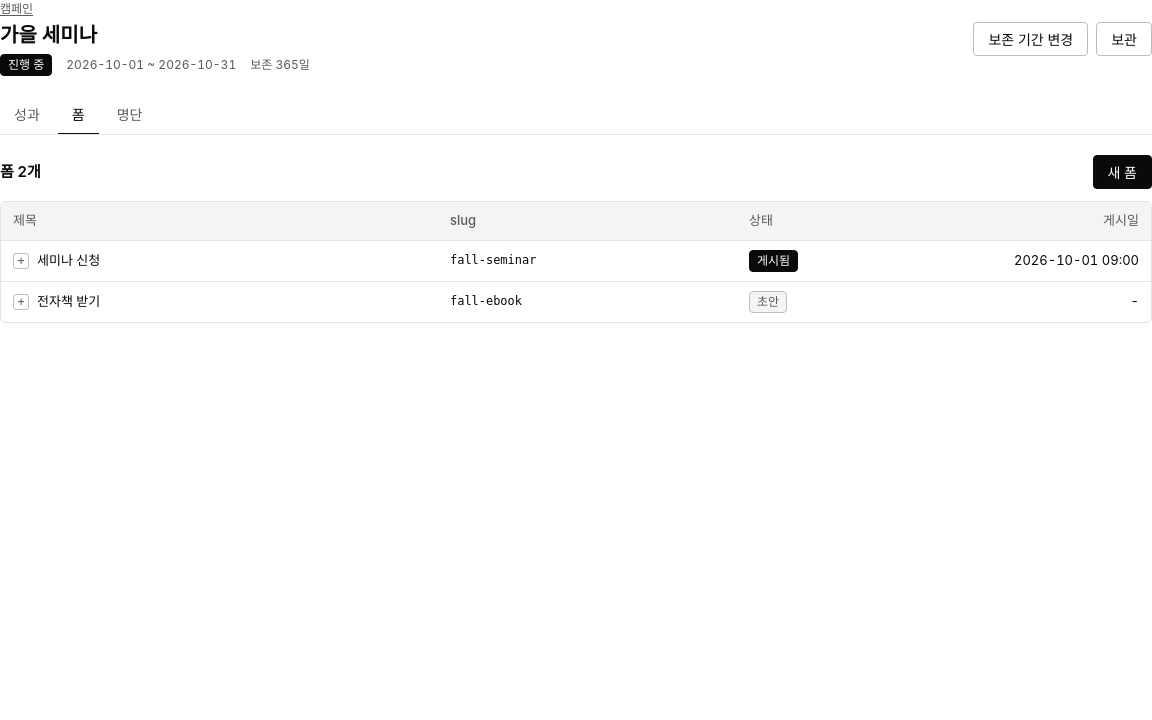
캠페인 보존 기간 › 범위를 벗어나면 서버 오류를 그 칸에 보여주고 대화상자를 닫지 않는다
Click the button "보존 기간 변경": point(1031, 39) x1=974 y1=22 x2=1088 y2=56
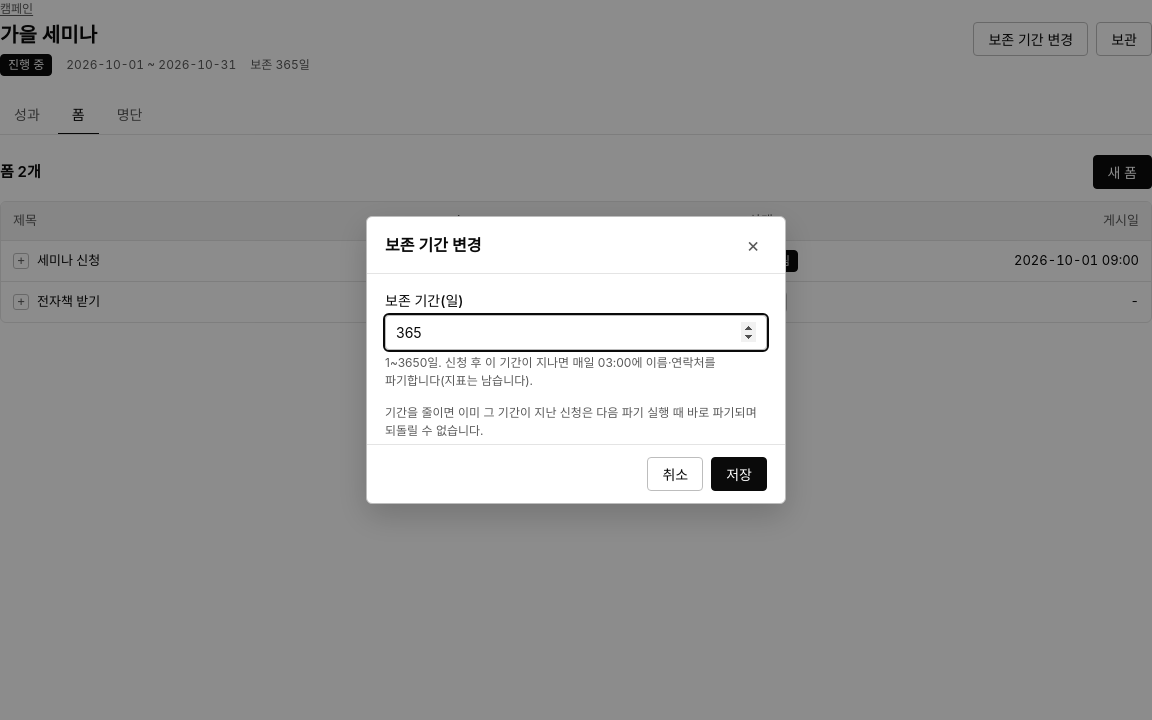
Replace the text in the number field labelled "보존 기간(일)" with "0": point(576, 332) x1=385 y1=315 x2=767 y2=350
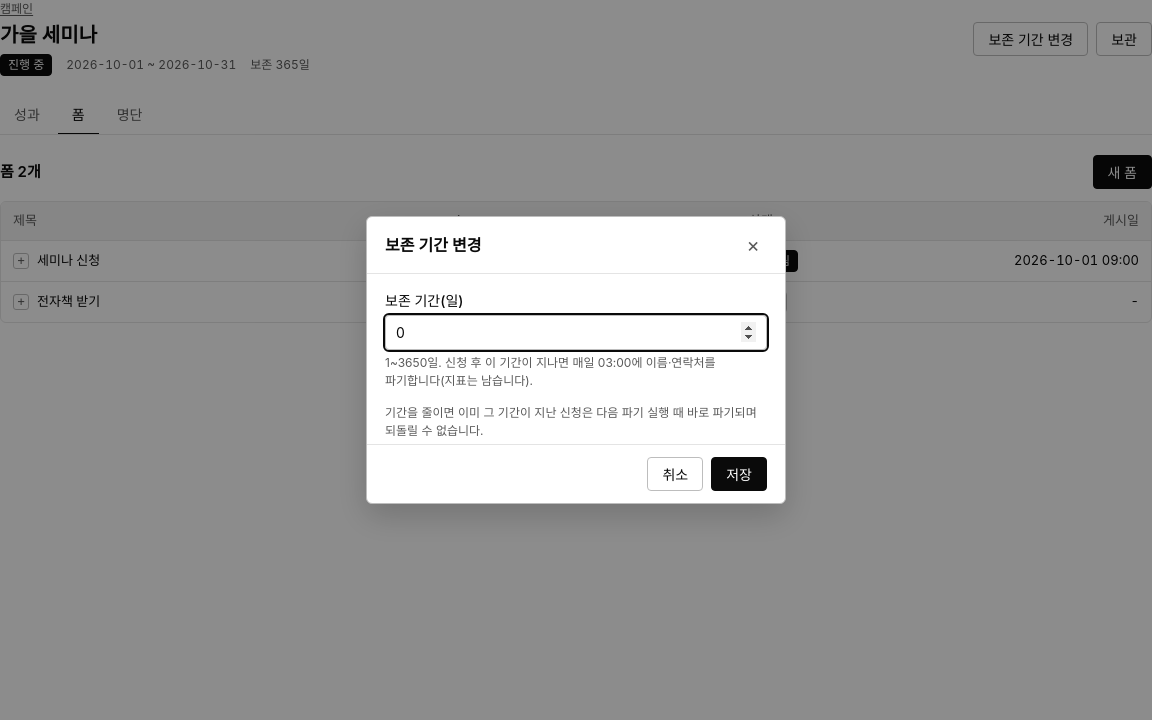
Click the button "저장": point(739, 474) x1=711 y1=457 x2=767 y2=491
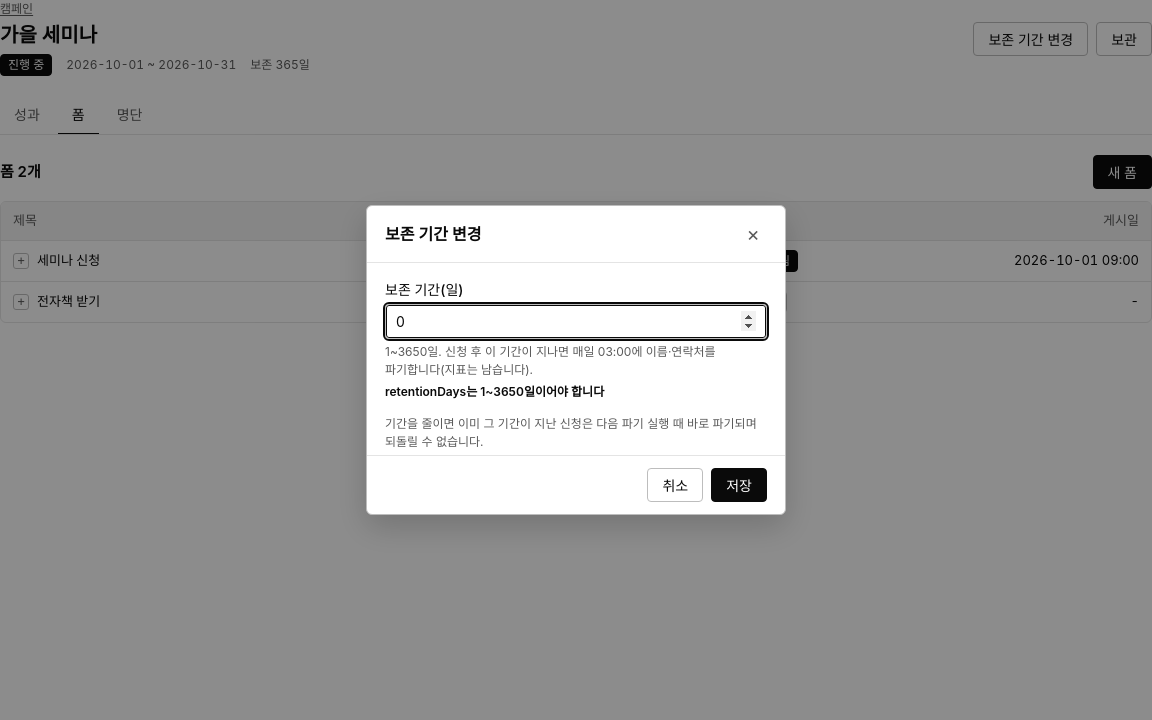
Expected: the text "보존 365일" is shown, x1=250 y1=56 x2=310 y2=74
Expected: the text "retentionDays는 1~3650일이어야 합니다" is shown, x1=385 y1=384 x2=604 y2=399
